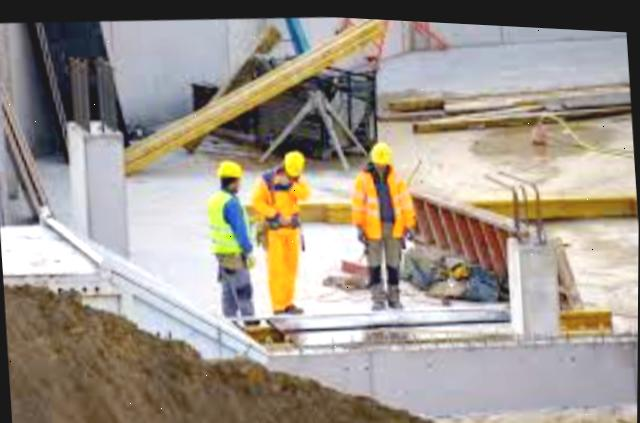helmet: (283, 146, 311, 170), (370, 137, 393, 165), (215, 157, 237, 180)
vest: (342, 156, 431, 247), (204, 190, 247, 262)
